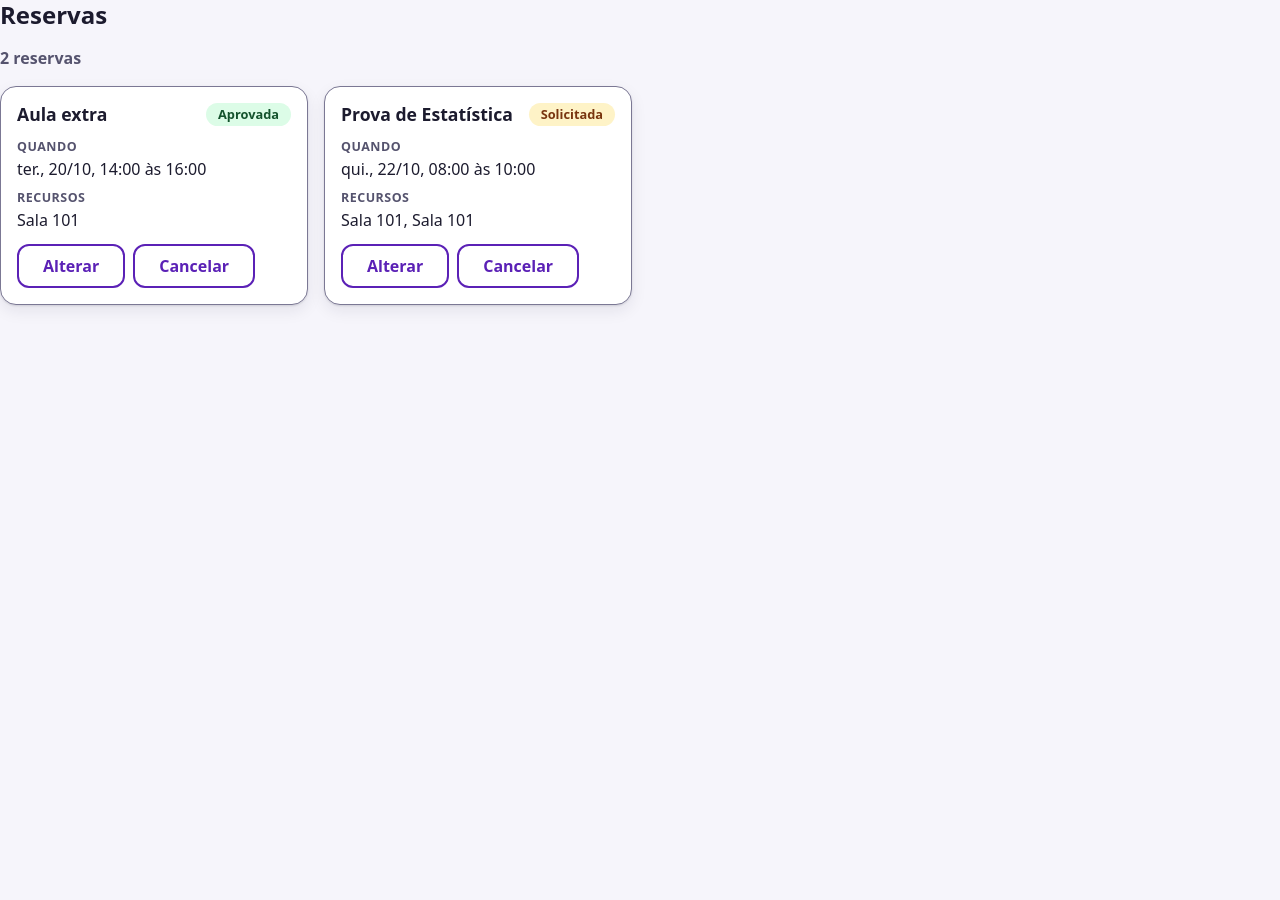
PaginaDeReservas: diálogo de confirmação do cancelamento › só abre o diálogo da reserva escolhida
Step 1. Click the button "Cancelar" below "Sala 101, Sala 101" → (518, 266), box x1=457 y1=244 x2=579 y2=288
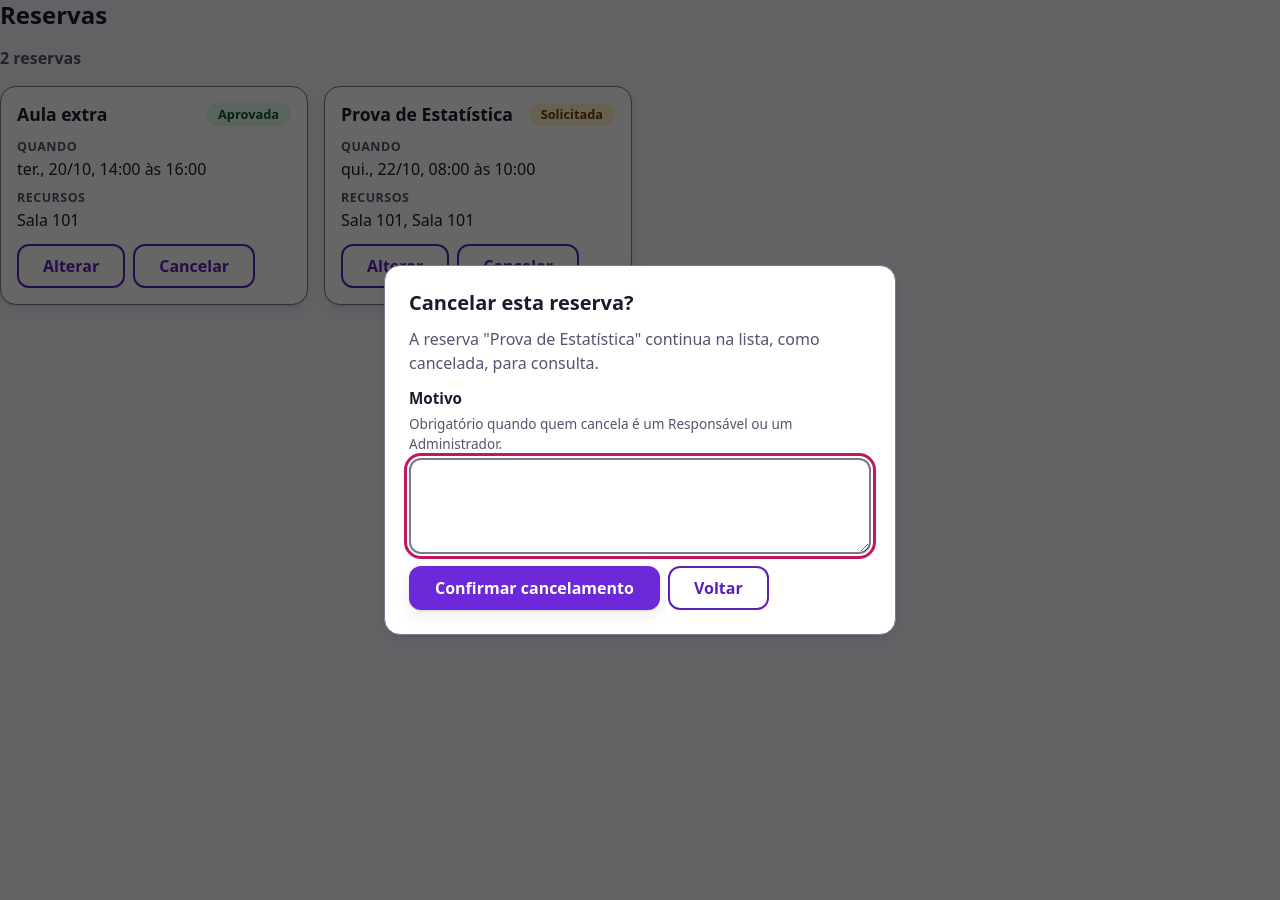
Check: the number of dialogs is 1, box x1=384 y1=265 x2=896 y2=635
